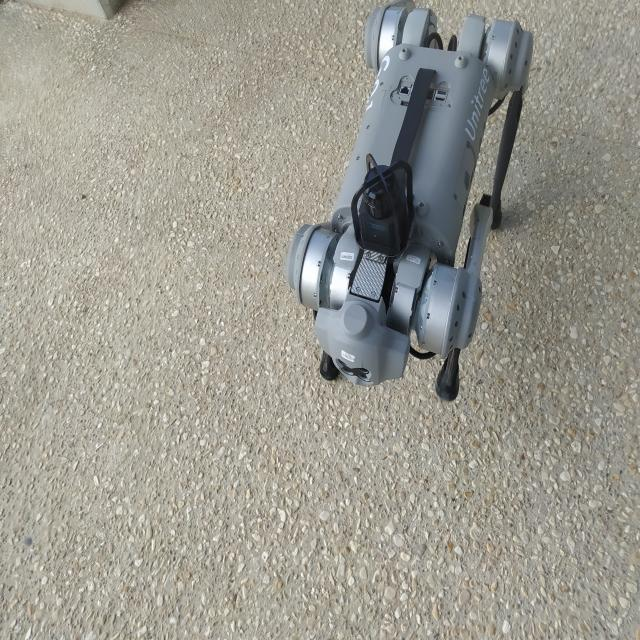unitree-go1-robot: (279, 0, 546, 422)
